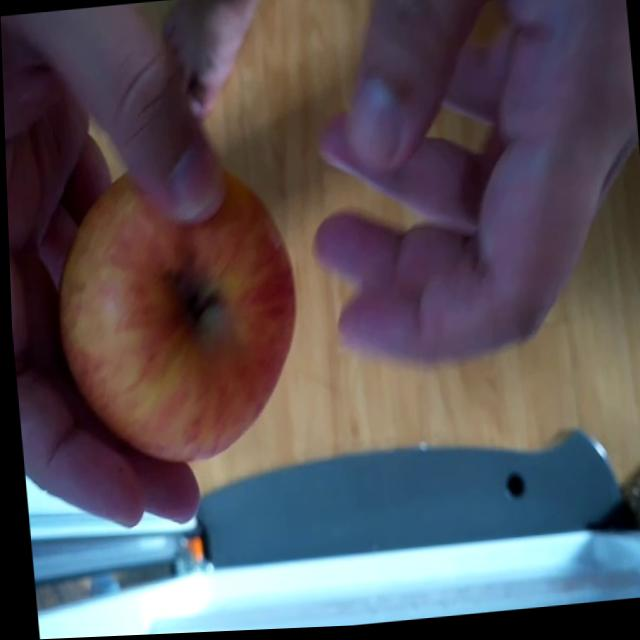apple: (37, 159, 309, 484)
